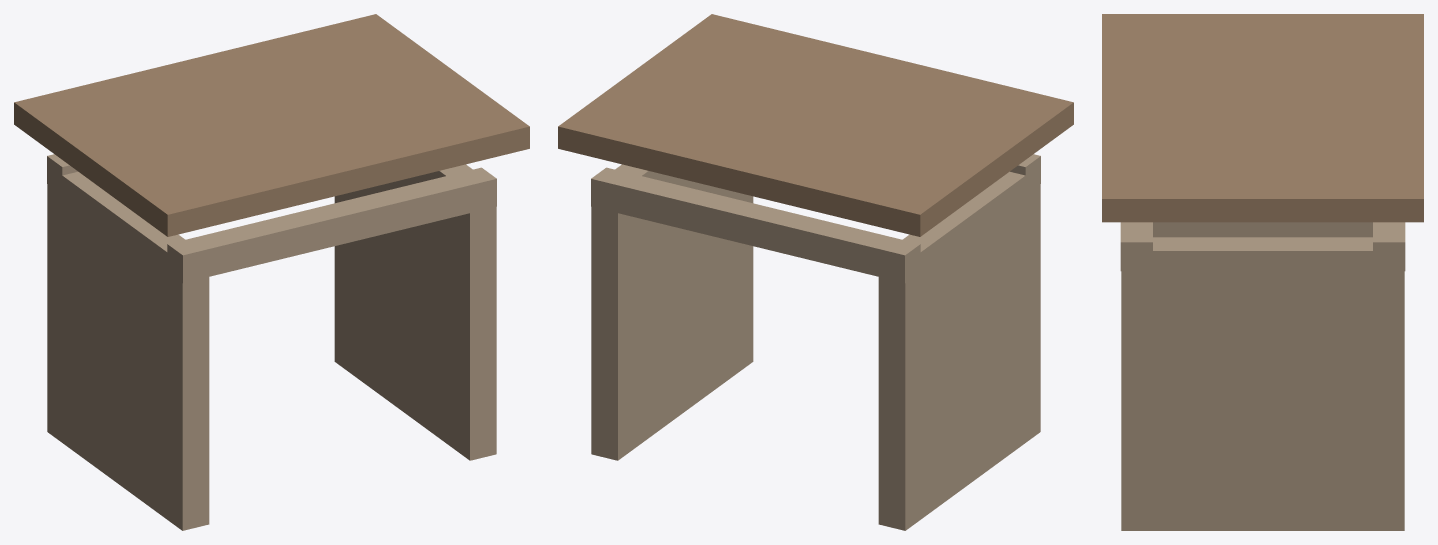
File: house_tunnel.glb
3 views of the same model, side by side, from view 1: azimuth 30°, elevation 25°; view 2: azimuth 150°, elevation 25°; view 3: azimuth 270°, elevation 25° (orthographic). The views are drawn at different scales.
Parts seen in each view (by area): view 1: world; view 2: world; view 3: world.
Part boxes in pixels (box(x1,y1,x2,y2)): world: box(14, 14, 529, 530); world: box(558, 14, 1073, 530); world: box(1102, 14, 1423, 530).
Size of the model in its own units: 3.4 by 2.95 by 2.5.
